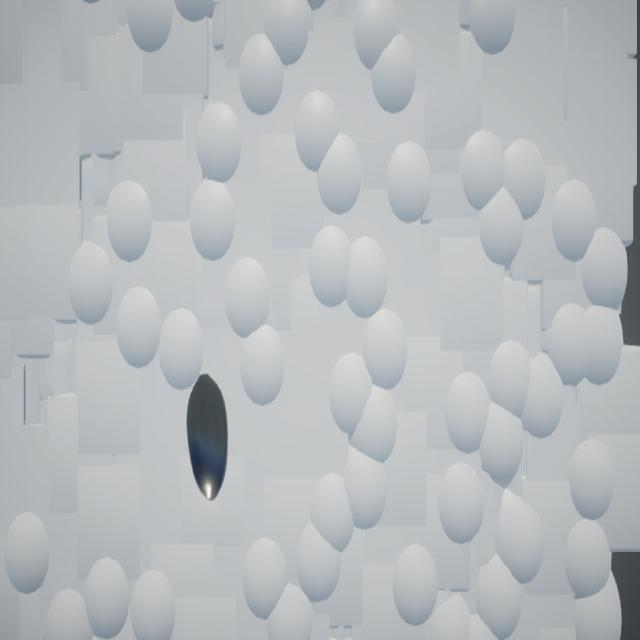top_spoon: (188, 374, 230, 502)
